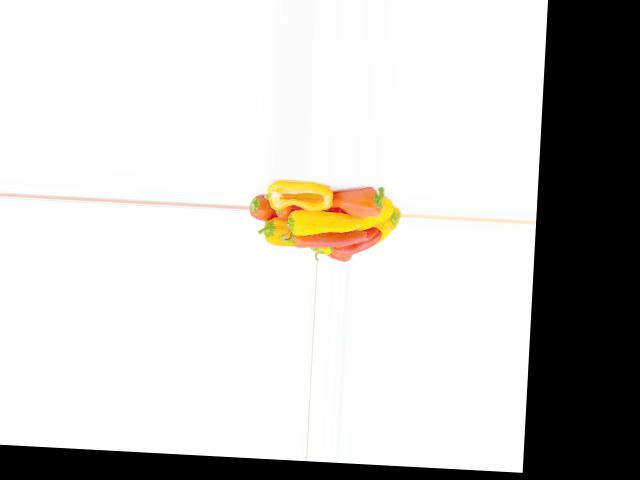bell_pepper: (248, 194, 292, 227)
